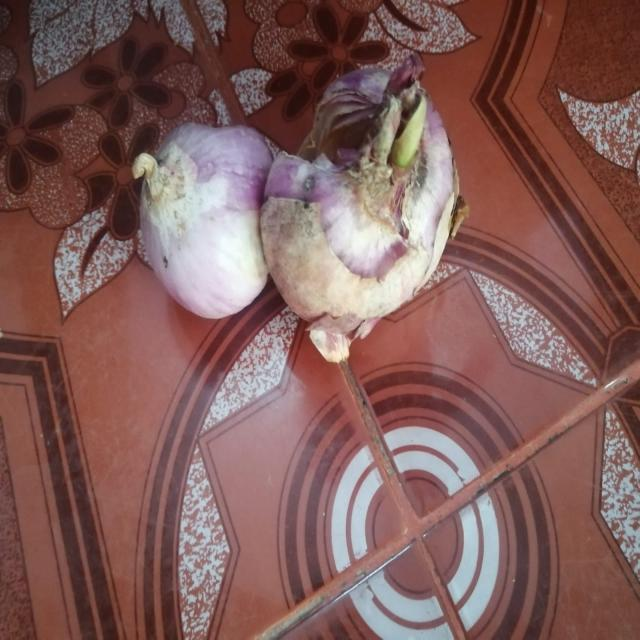rotten: (296, 128, 354, 175)
sprouting: (388, 97, 424, 177)
